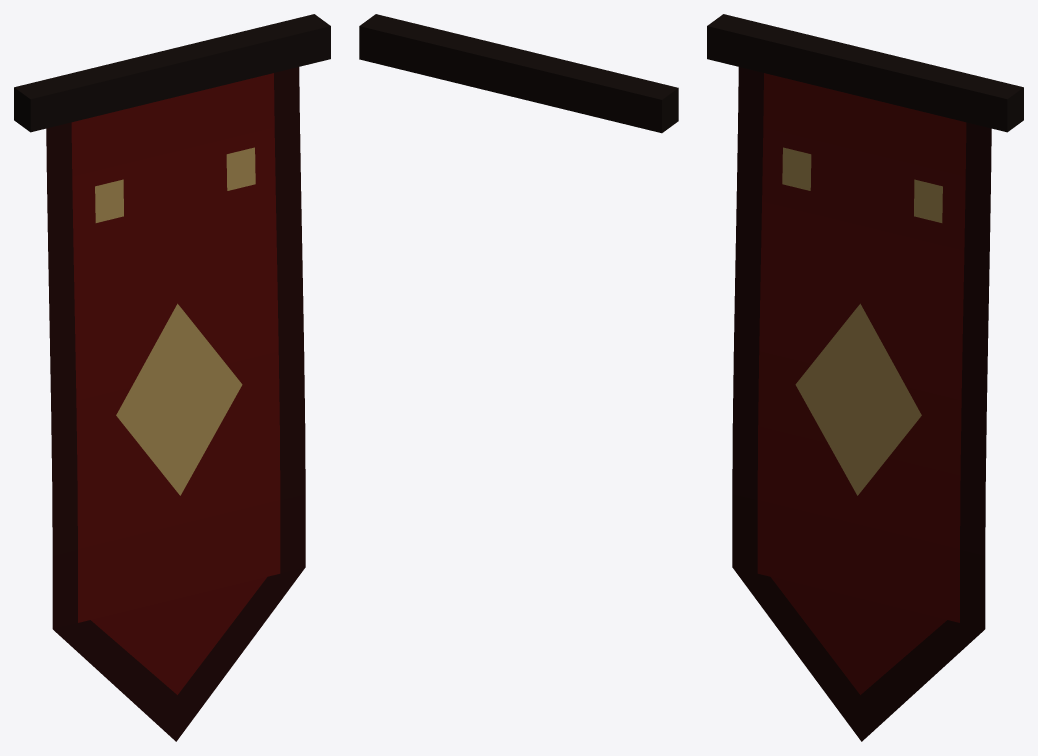
File: Banner.glb
The picture shows the model from 3 angles, left to right: view 1: azimuth 30°, elevation 25°; view 2: azimuth 150°, elevation 25°; view 3: azimuth 330°, elevation 25°; orthographic projection.
Parts seen in each view (by area): view 1: Banner; view 2: Banner; view 3: Banner.
Boxes of the visible parts, bbox=[...] form: Banner: bbox=[14, 14, 330, 741]; Banner: bbox=[359, 14, 678, 133]; Banner: bbox=[707, 14, 1023, 741].
Bounding box in the file's own units: 3.8 × 8.25 × 0.36.
